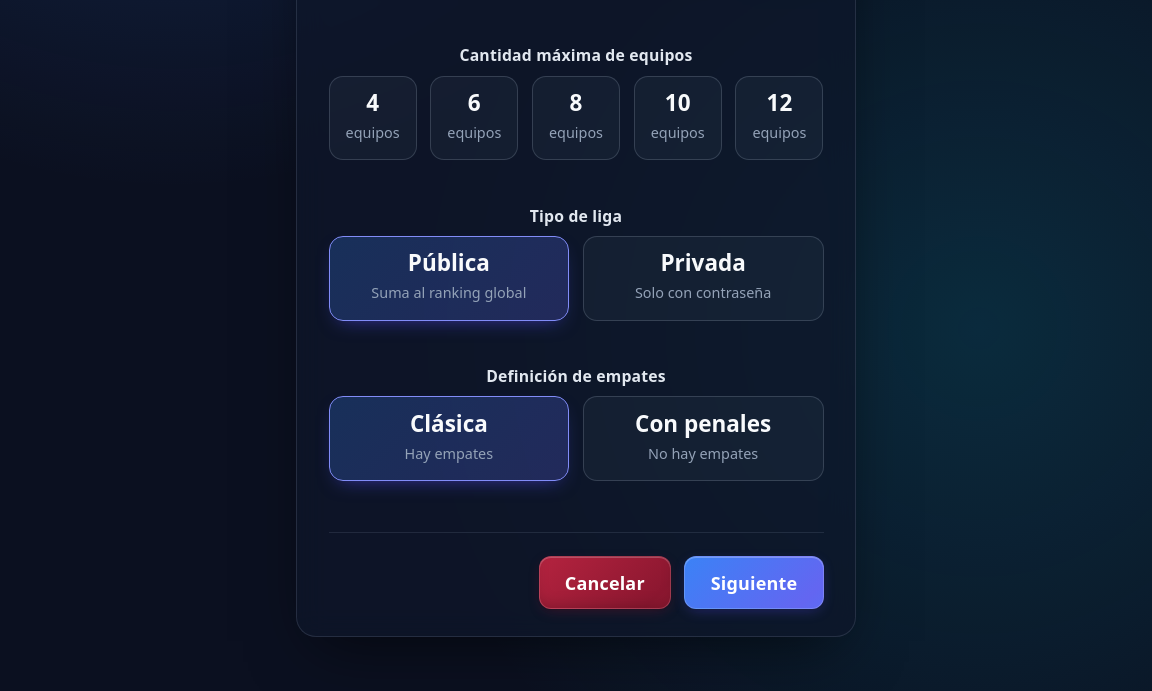
Test: CreateLeaguePage › Paso 1: datos de la liga › Debería mostrar errores y no avanzar si faltan datos
This screenshot has width=1152, height=691.
(page scrolled)
Click the button "Siguiente" at (754, 583), box [684,556,824,609]
(page scrolled)
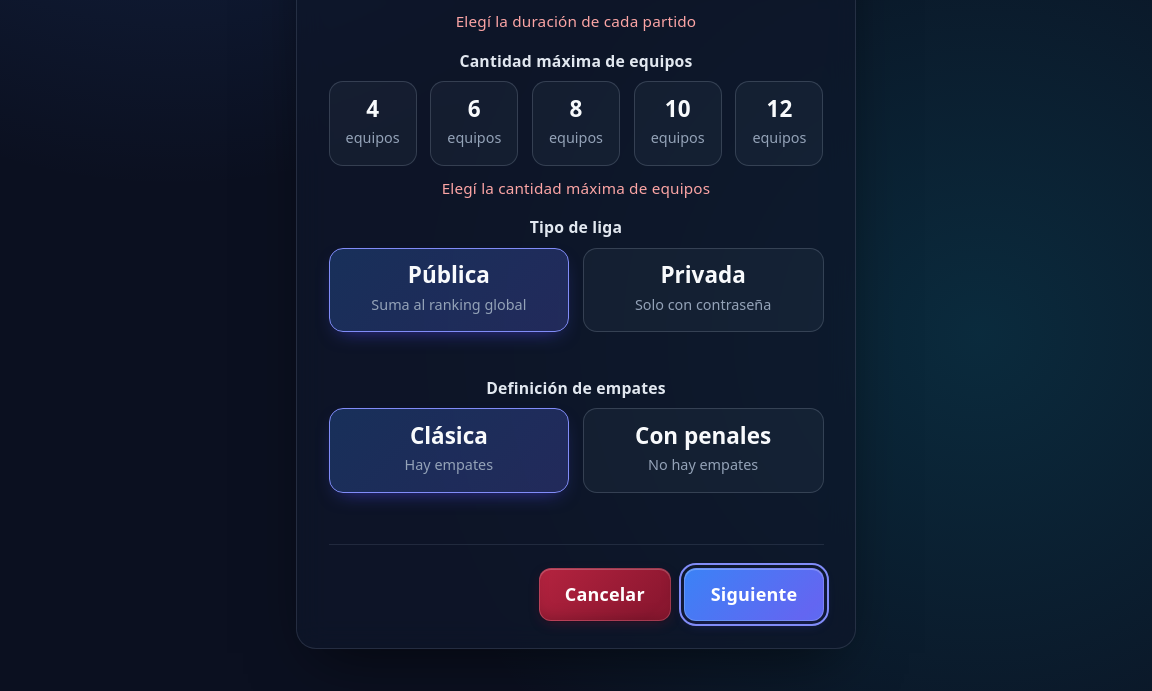
Now the text "Elegí la duración de cada partido" is shown, box [456,11,696,31]
Now the text "Elegí la cantidad máxima de equipos" is shown, box [442,178,710,198]
